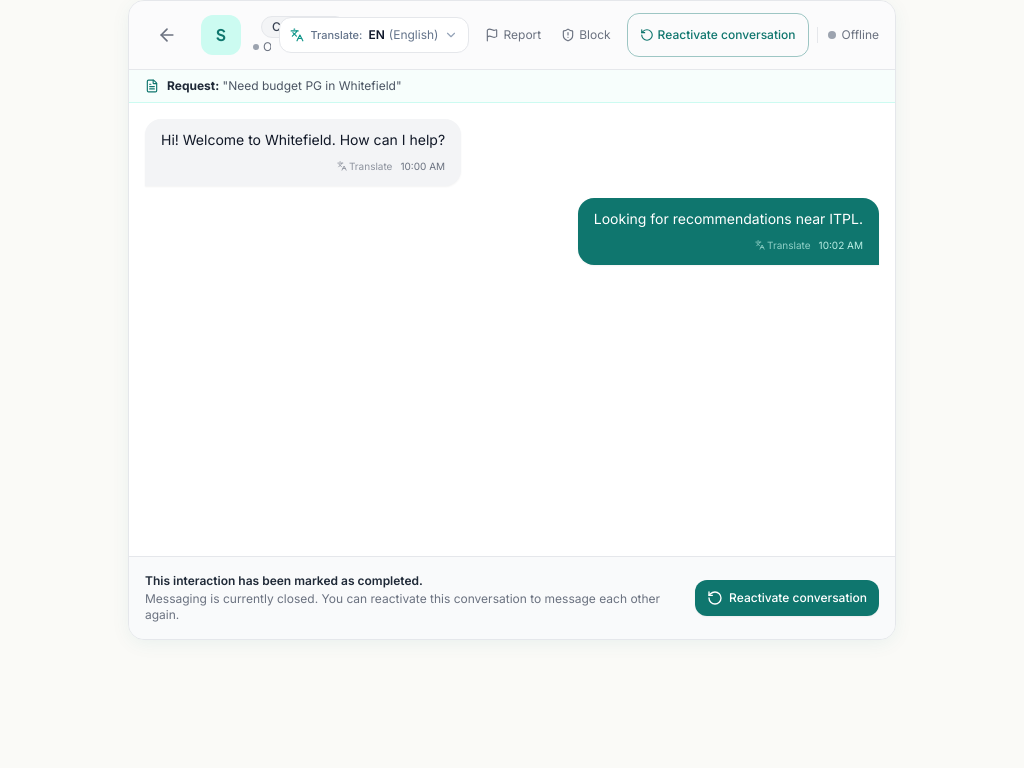
Test case: Phase 8 Chat & Messaging Frontend › ChatPage Component › displays completed interaction notice, allows reactivating conversation with confirmation modal, and restores composer
Expected: the text "Completed" is shown, [261,16,346,38]
Expected: the text "This interaction has been marked as completed." is shown, [145,573,423,588]
Click the 1st button "Reactivate conversation": (718, 35) [627,13,808,57]
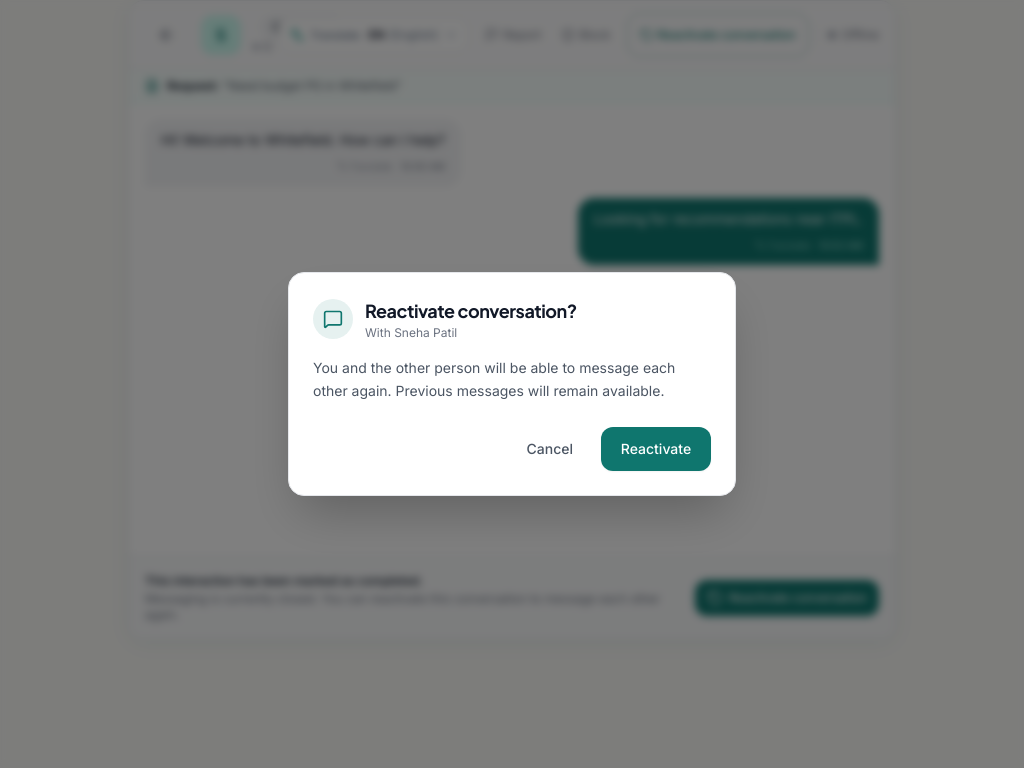
Now the heading "Reactivate conversation?" is shown, box [365,297,577,325]
Now the text "You and the other person will be able to message each other again. Previous messages will remain available." is shown, box [313,359,675,399]
Cancel button
Click the button "Cancel": (550, 449) [510,427,589,471]
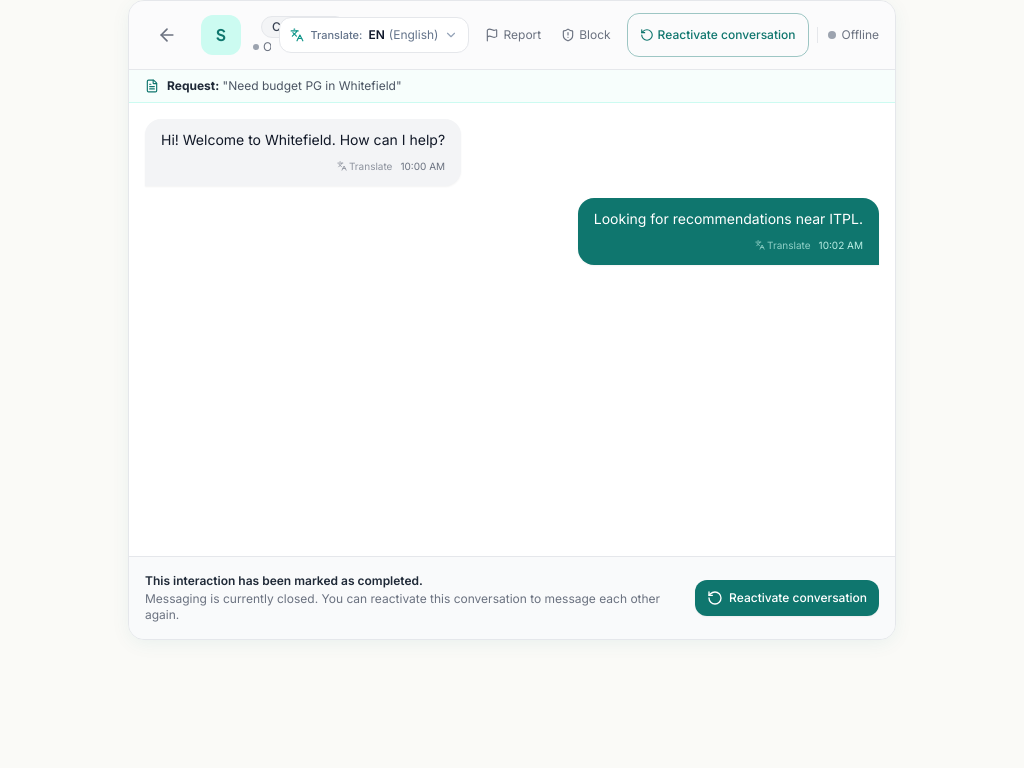
Now the heading "Reactivate conversation?" is gone
Open and confirm
Click the 1st button "Reactivate conversation": (718, 35) [627,13,808,57]
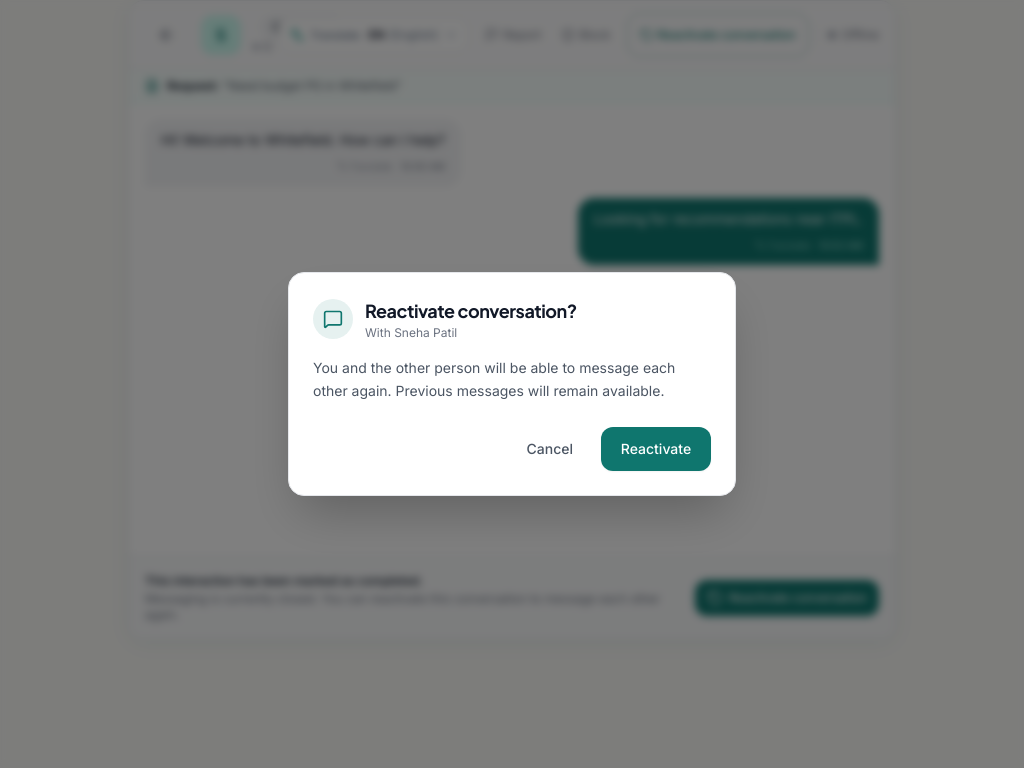
Click the button "Reactivate": (656, 449) [601,427,711,471]
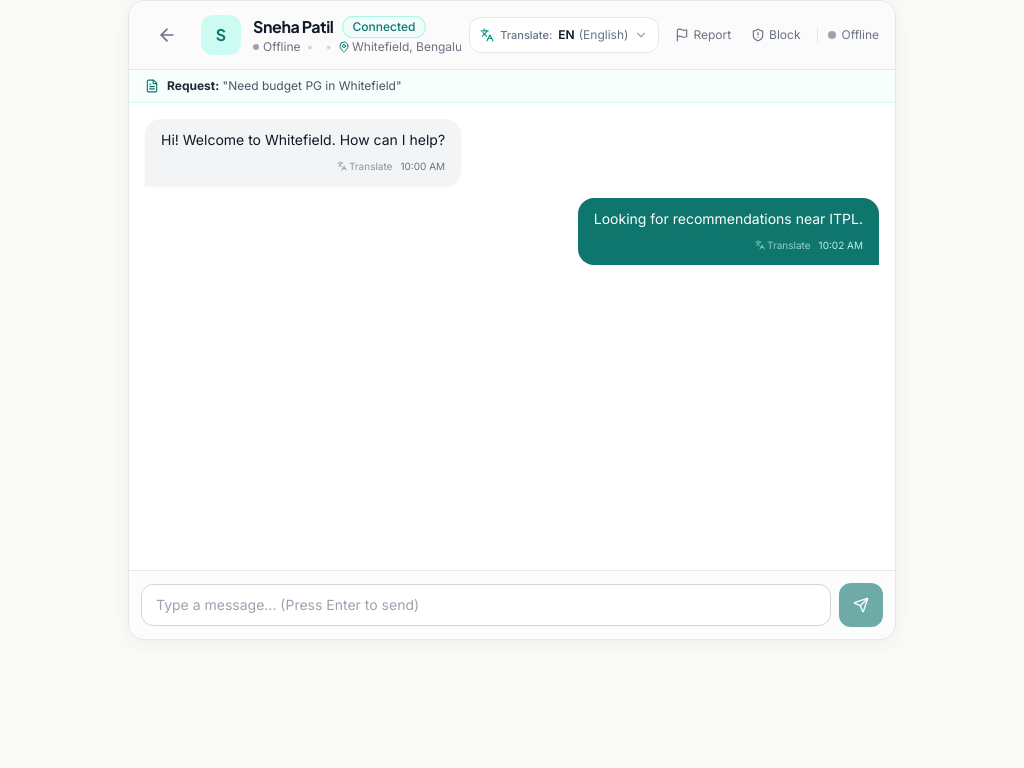
Now the text box with placeholder "Type a message... (Press Enter to send)" is shown, box [141,584,831,626]
